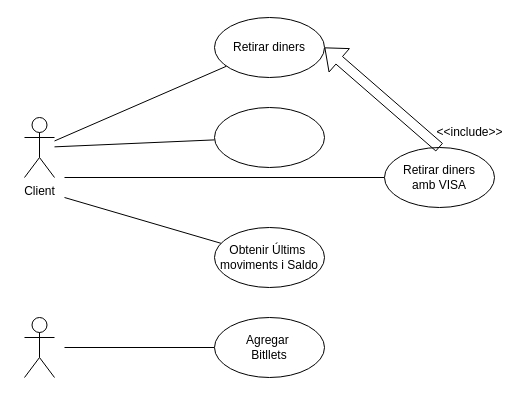
The diagram is 532 pixels wide and 416 high, and some of its shapes have lost their labels. Each missing label, with the centre of its shape:
Cambiar PIN: the point at 269,137
Empleat: the point at 39,347
